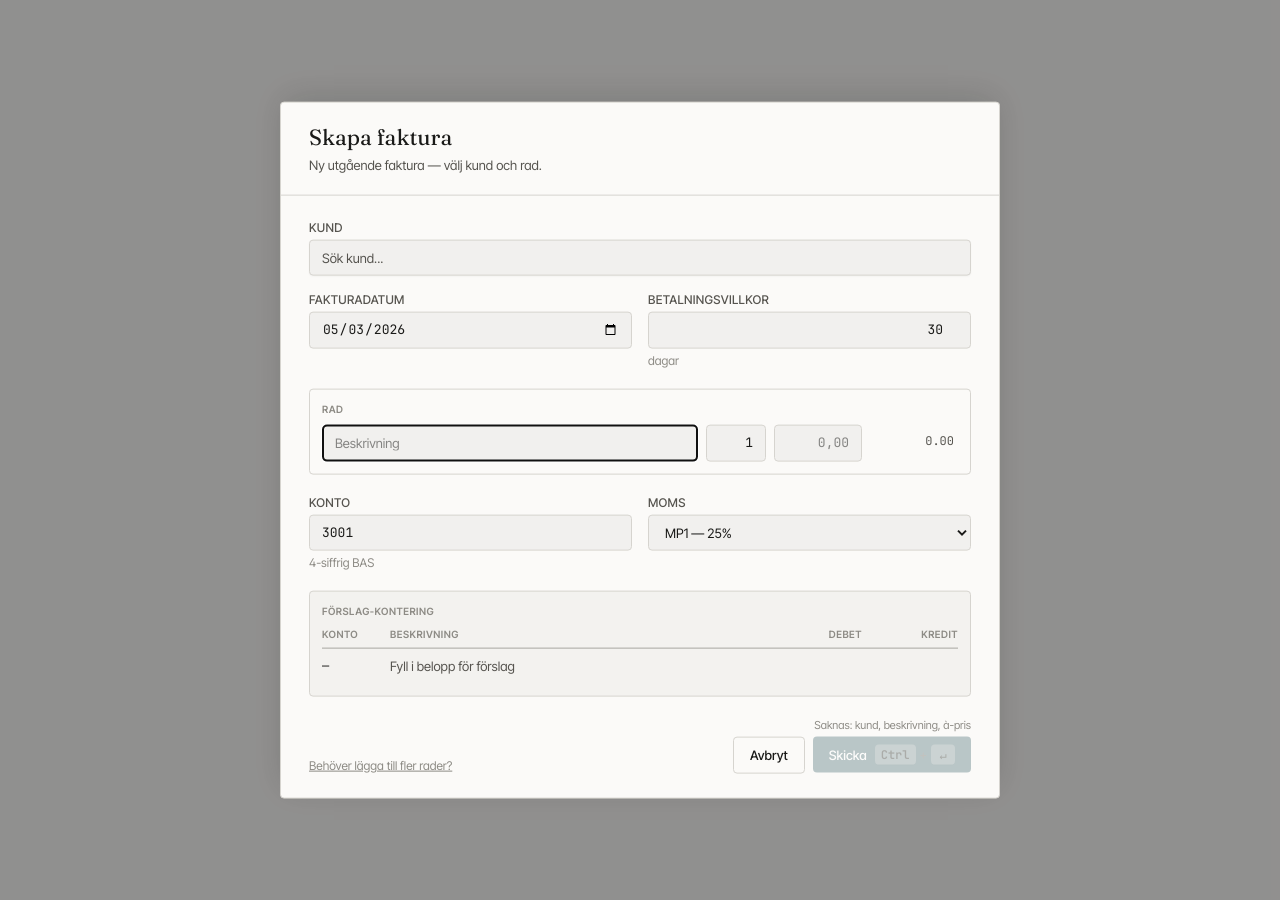
Sprint VS-4 — SkapaFakturaSheet › VS-134/VS-14 visar inline-fel om datum utanför aktivt FY
The width and height of the screenshot is (1280, 900).
Type "2025-06-01" into the date field with test id "vardag-faktura-date".
click(470, 330); type("2025-06-01")  # box [309,312,632,349]
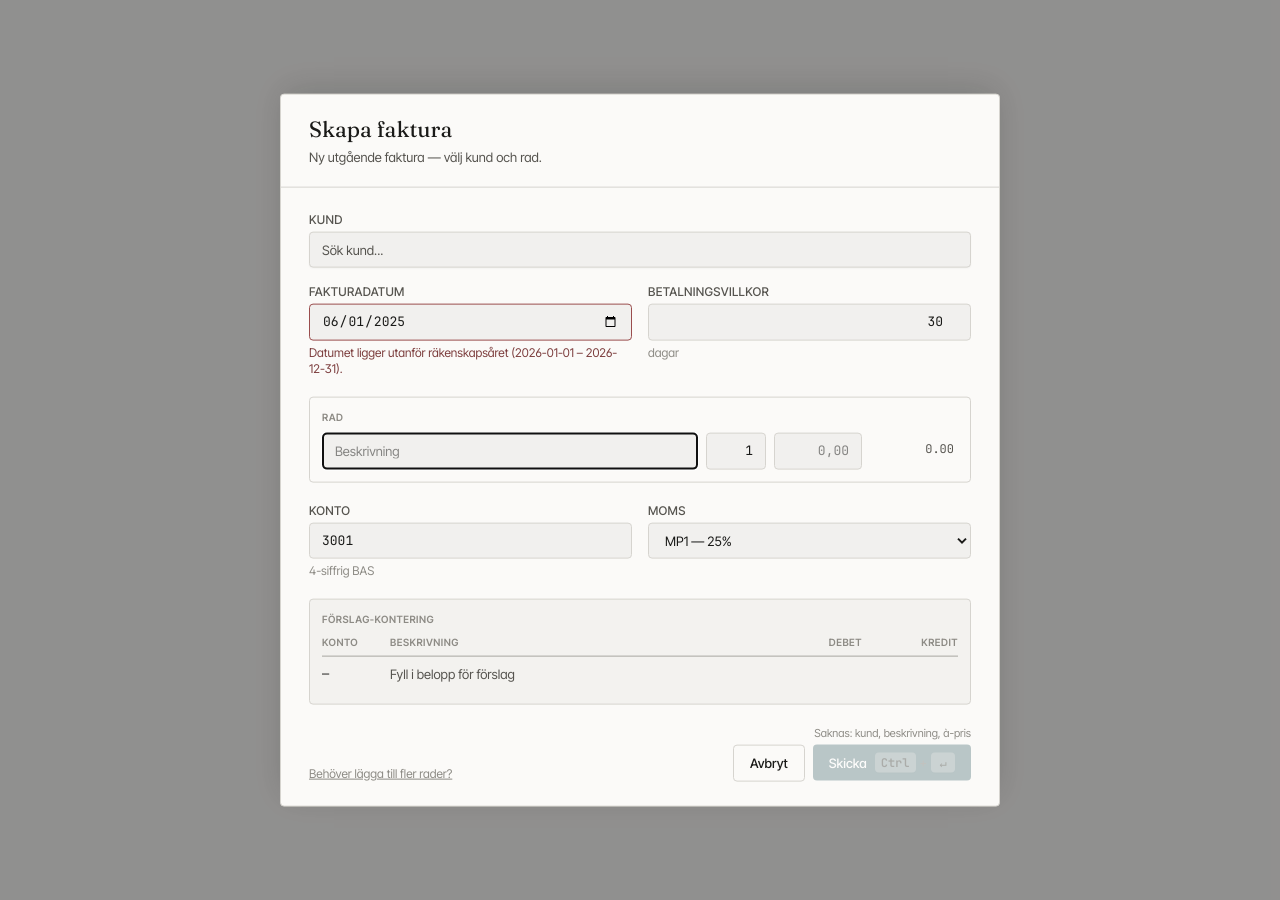
Now the message "Datumet ligger utanför räkenskapsåret (2026-01-01 – 2026-12-31)." is shown, box [309,345,632,377]
